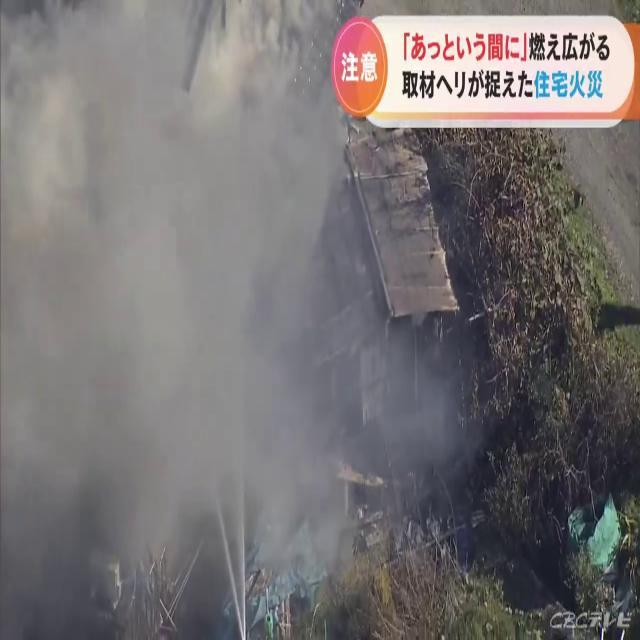Smoke: (1, 2, 456, 630)
